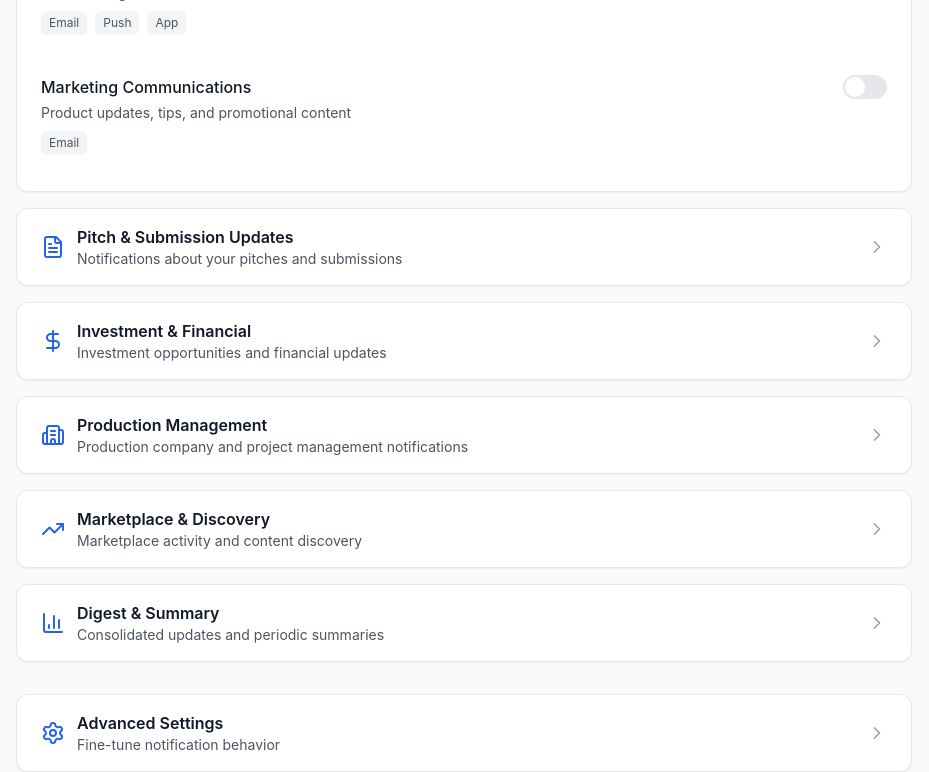
Test case: NotificationPreferences › Advanced Settings › clicking Advanced Settings header expands the panel
The width and height of the screenshot is (929, 772).
(page scrolled)
Click the heading "Advanced Settings" at (150, 723), box [77,713,223,733]
(page scrolled)
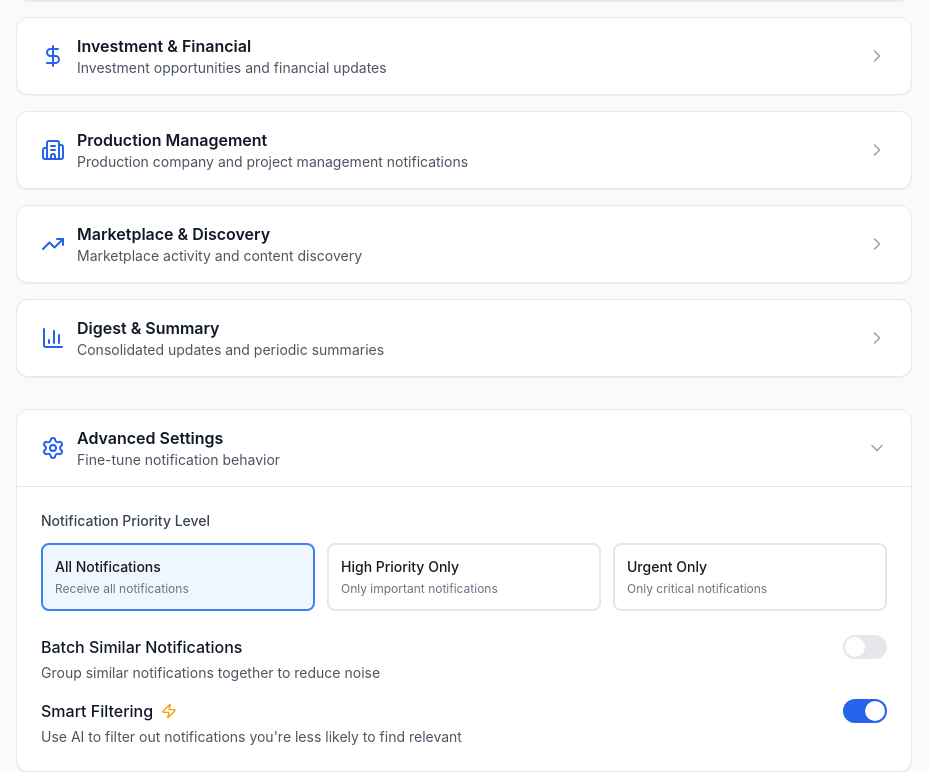
Now the text "Notification Priority Level" is shown, box [41,512,210,529]
